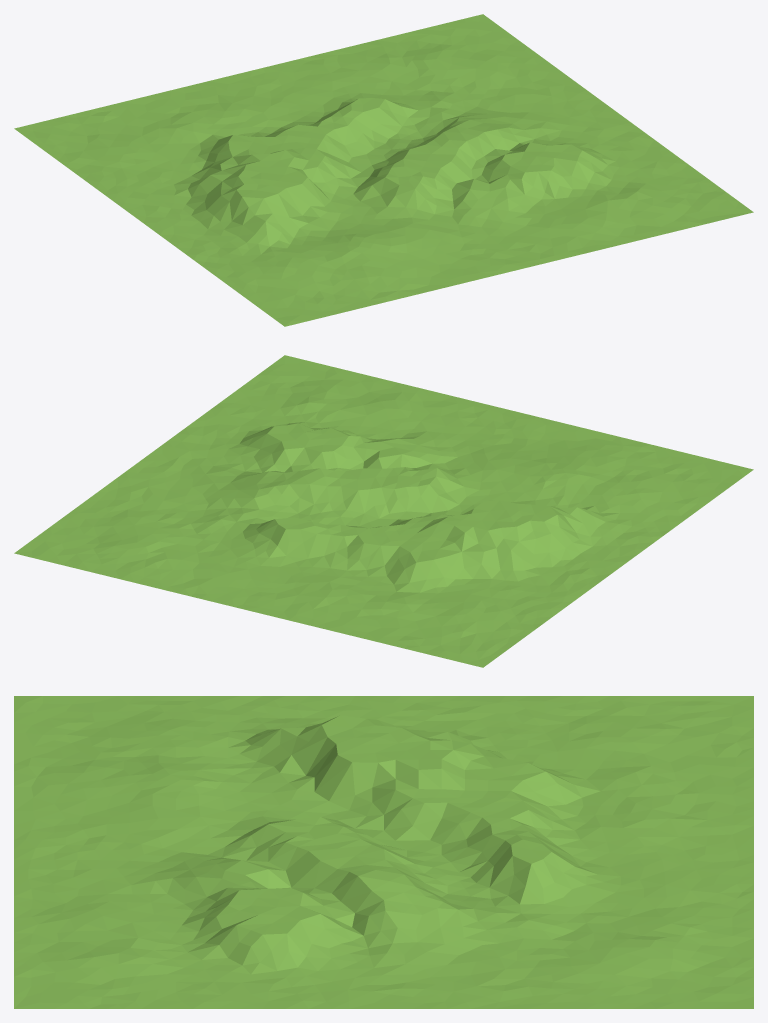
The model's file is MT_Terrain_L_d_06_LOD.fbx.
3 views of the same model, one above another, from view 1: azimuth 30°, elevation 25°; view 2: azimuth 150°, elevation 25°; view 3: azimuth 270°, elevation 25° (orthographic). The views are drawn at different scales.
Parts seen in each view (by area): view 1: MT_Terrain_L_d_06_LOD0; view 2: MT_Terrain_L_d_06_LOD0; view 3: MT_Terrain_L_d_06_LOD0.
Boxes of the visible parts, <box> form: MT_Terrain_L_d_06_LOD0: <box>14,14,753,326</box>; MT_Terrain_L_d_06_LOD0: <box>14,355,753,667</box>; MT_Terrain_L_d_06_LOD0: <box>14,696,753,1008</box>.
Size of what is drawn, in the model's own units: 10000 by 491 by 10000.
